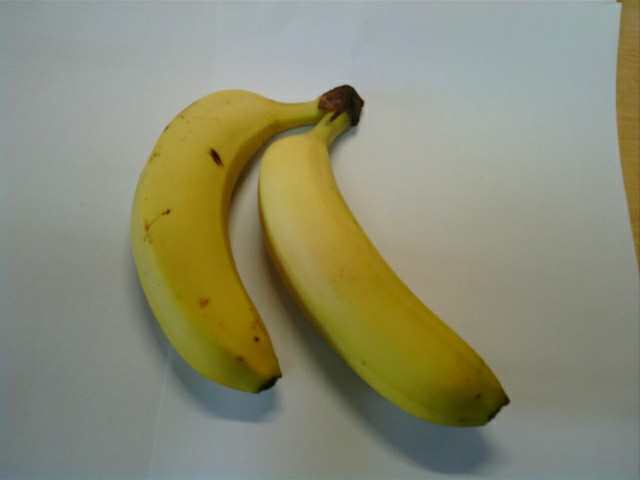fresh_banana: (260, 134, 509, 428)
normal_banana: (131, 87, 283, 393)
